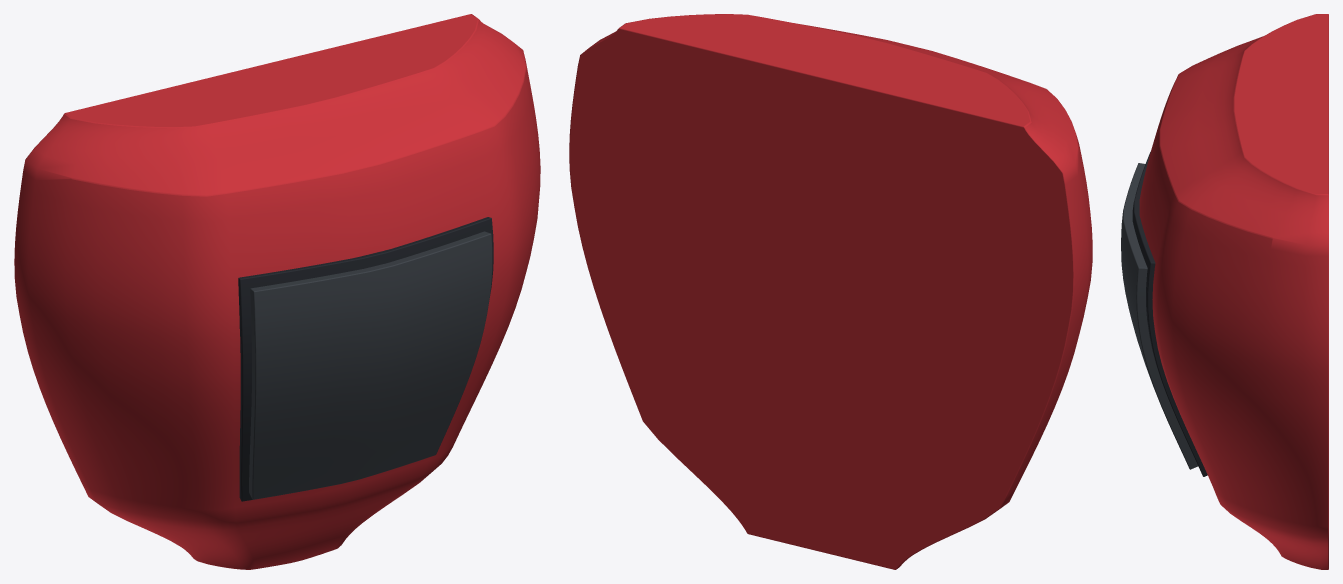
File: LowerArmBack_Set01_Ironclad.fbx
The picture shows the model from 3 angles, left to right: view 1: azimuth 30°, elevation 25°; view 2: azimuth 150°, elevation 25°; view 3: azimuth 270°, elevation 25°; orthographic projection. The views are drawn at different scales.
Visible parts, largest first — view 1: LowerArmBack_Set01_Ironclad; view 2: LowerArmBack_Set01_Ironclad; view 3: LowerArmBack_Set01_Ironclad.
Part boxes in pixels (<box>): LowerArmBack_Set01_Ironclad: <box>14,14,540,569</box>; LowerArmBack_Set01_Ironclad: <box>569,14,1092,569</box>; LowerArmBack_Set01_Ironclad: <box>1121,14,1328,569</box>.
Bounding box in the file's own units: 0.3675 × 0.33 × 0.1435.
